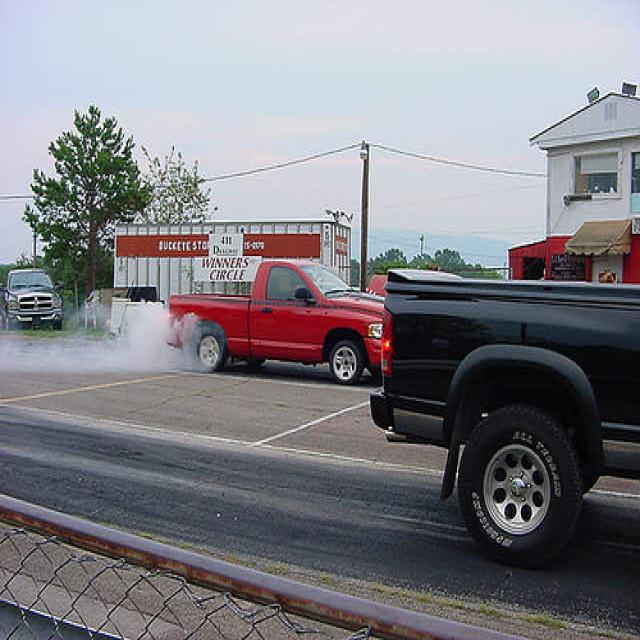car: (368, 266, 640, 570), (166, 255, 383, 385), (1, 266, 65, 331)
